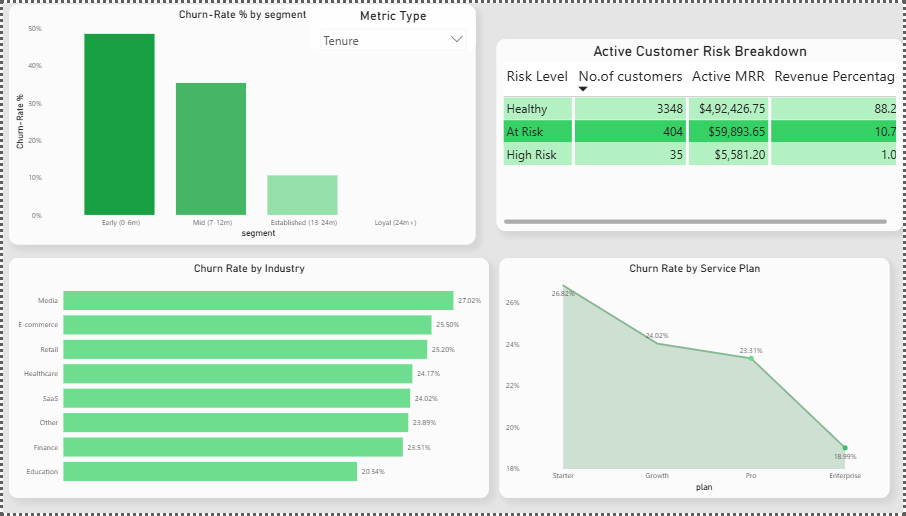

The dashboard page shown, as its layout file describes it:
{"tool":"powerbi","page":{"name":"Churn & Risk Analysis","canvas":[1500,850],"ordinal":1},"visuals":[{"type":"clusteredColumnChart","fields":{"Y":["Churn_analysis.Churn-Rate %"],"Category":["Churn_analysis.segment"]},"box":[10,2.5,777.5,400],"z":0},{"type":"slicer","title":"Metric Type","fields":{"Values":["Churn_analysis.metric_type"]},"box":[512.5,2.5,275,80],"z":1000},{"type":"tableEx","title":"Active Customer Risk Breakdown","fields":{"Values":["Risk.risk_level","Sum(Risk.customer_count)","Sum(Risk.active_mrr)","Risk.pct_revenue"]},"box":[822.5,60,677.5,320],"z":2000},{"type":"clusteredBarChart","title":"Churn Rate by Industry ","fields":{"Category":["Industry_Metrics.industry"],"Y":["Industry_Metrics.Churn Rate by Industry %"]},"box":[10,425,800,400],"z":3000},{"type":"areaChart","title":"Churn Rate by Service Plan","fields":{"Category":["Plan_Metrics.plan"],"Y":["Plan_Metrics.Churn Rate by Plan %"]},"box":[827.5,425,650,400],"z":4000}]}

Visuals, with their boxes in screenshot pixels (x1, y1, x2, y2), scaled from the page's 1500x850 canvas onto the 906x516 screenshot:
clusteredColumnChart - Churn_analysis.Churn-Rate % x Churn_analysis.segment: rect(6, 2, 476, 244)
"Metric Type" slicer: rect(310, 2, 476, 50)
"Active Customer Risk Breakdown" tableEx: rect(497, 36, 905, 231)
"Churn Rate by Industry " clusteredBarChart: rect(6, 258, 489, 501)
"Churn Rate by Service Plan" areaChart: rect(500, 258, 892, 501)
